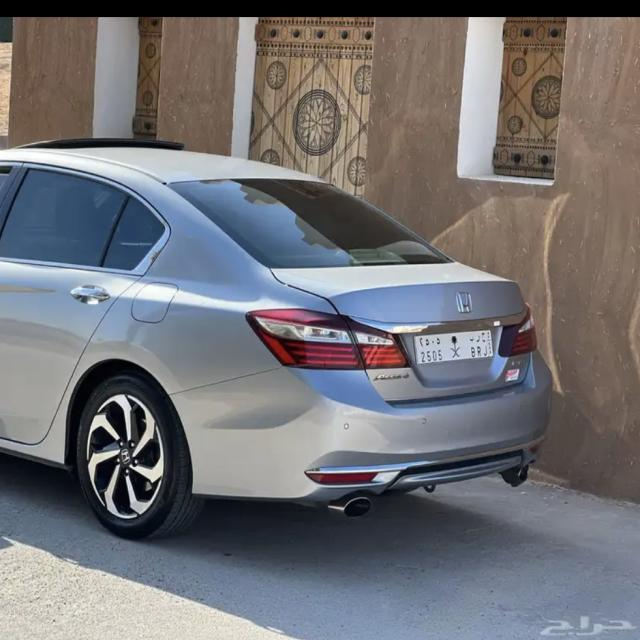license_plate: (414, 333, 492, 364)
